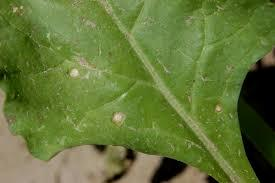Bok-Choy-Diseased: (2, 1, 238, 155)
